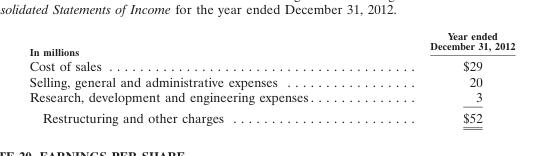table: (28, 29, 514, 125)
table column: (28, 29, 371, 125), (371, 29, 514, 125)
table column header: (28, 29, 514, 57)
table row: (28, 29, 514, 57), (28, 106, 514, 125), (28, 88, 514, 106), (28, 57, 514, 73), (28, 73, 514, 88)
